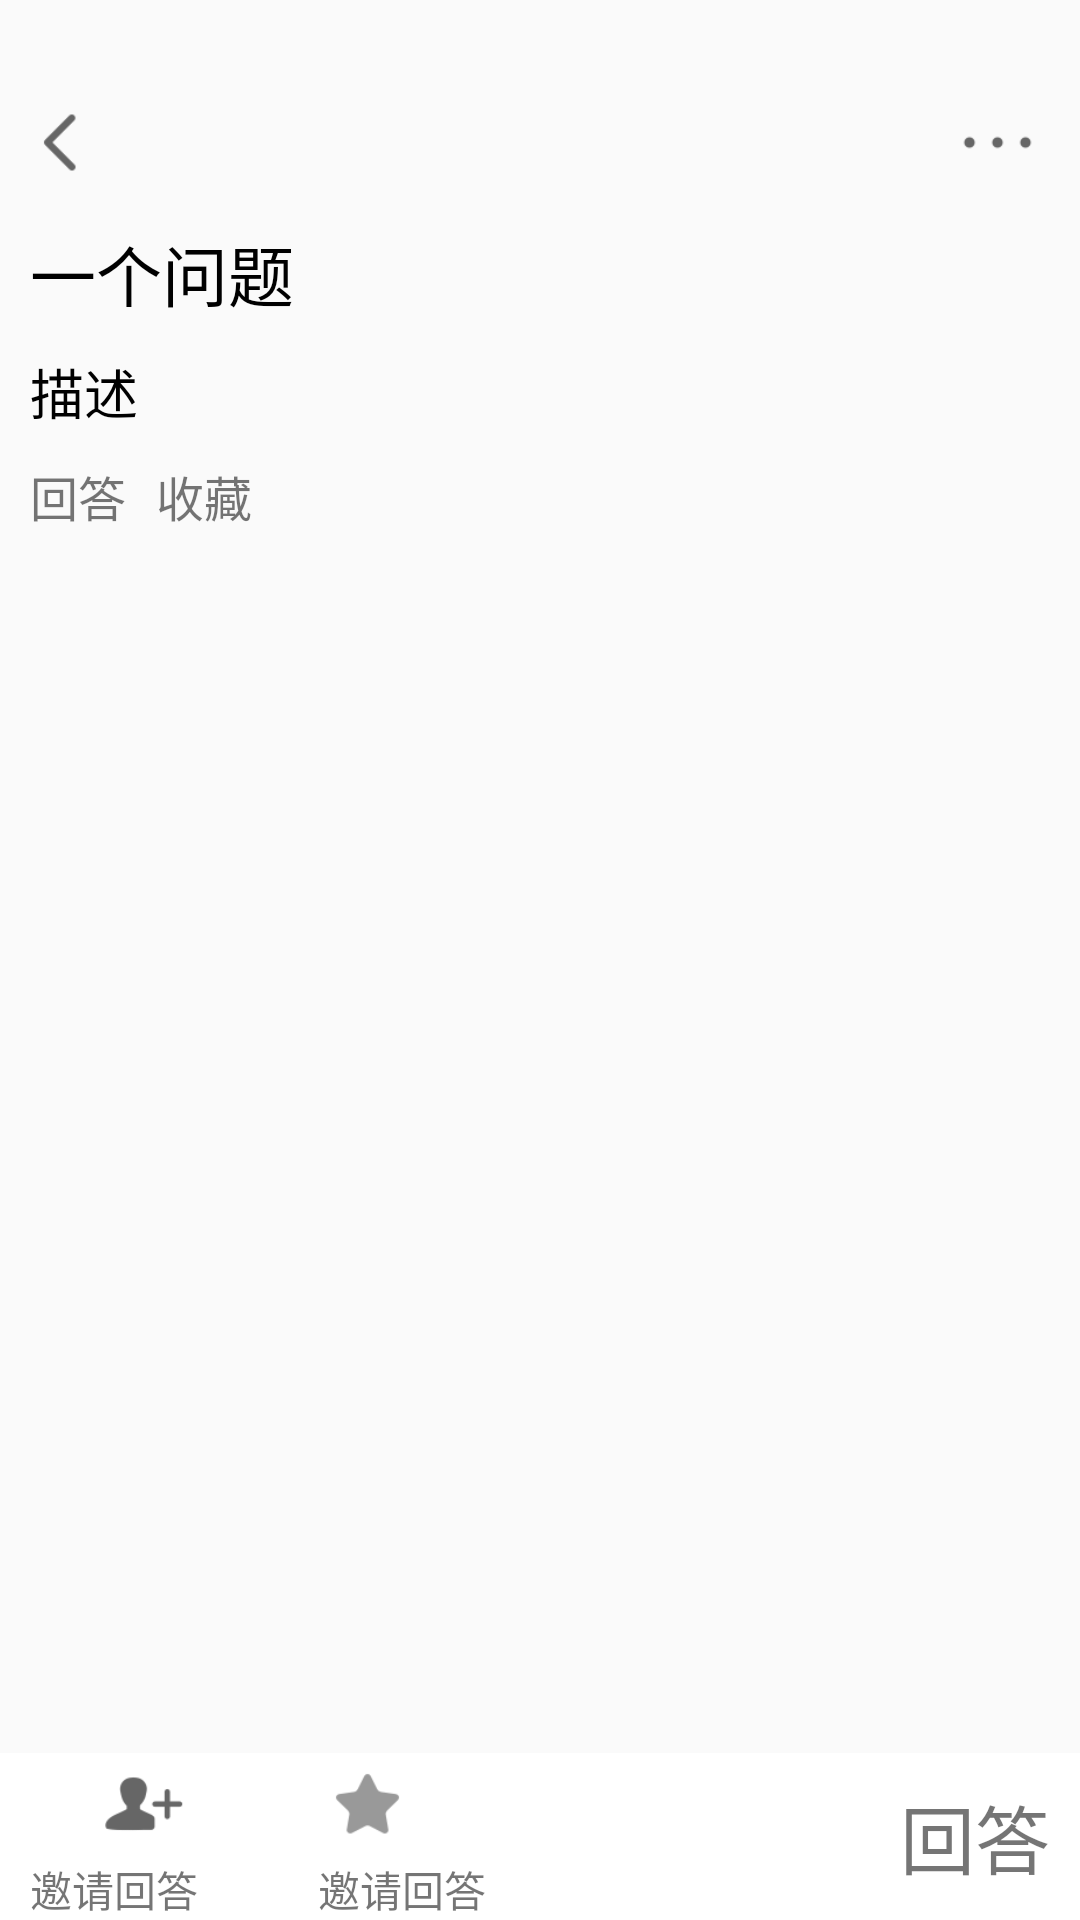

Screen size 1080px×1920px. Icon name, then its center in pixels as [x,y]:
recommend back: [60,142]
